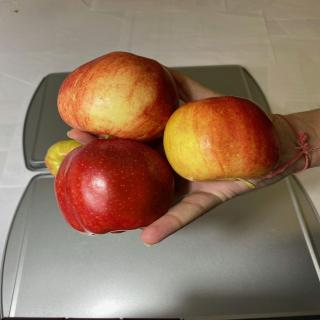Apple: (54, 135, 175, 236), (56, 51, 180, 143), (163, 95, 281, 188), (44, 139, 83, 178)
